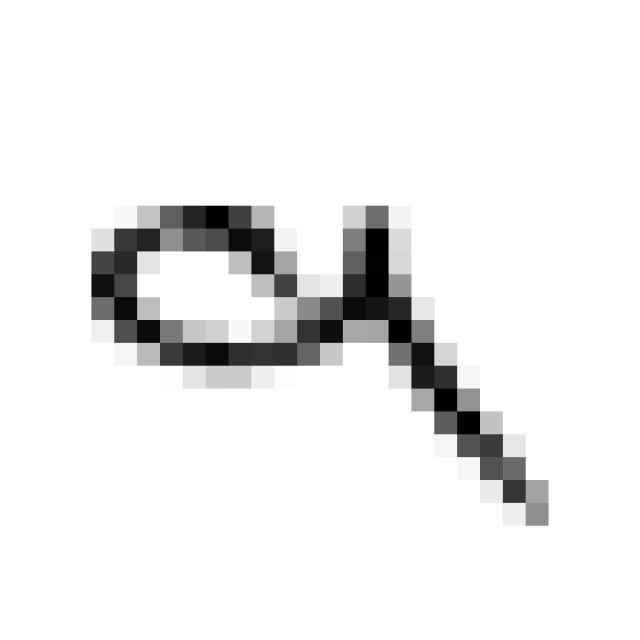9 -nine-: (69, 169, 565, 543)
